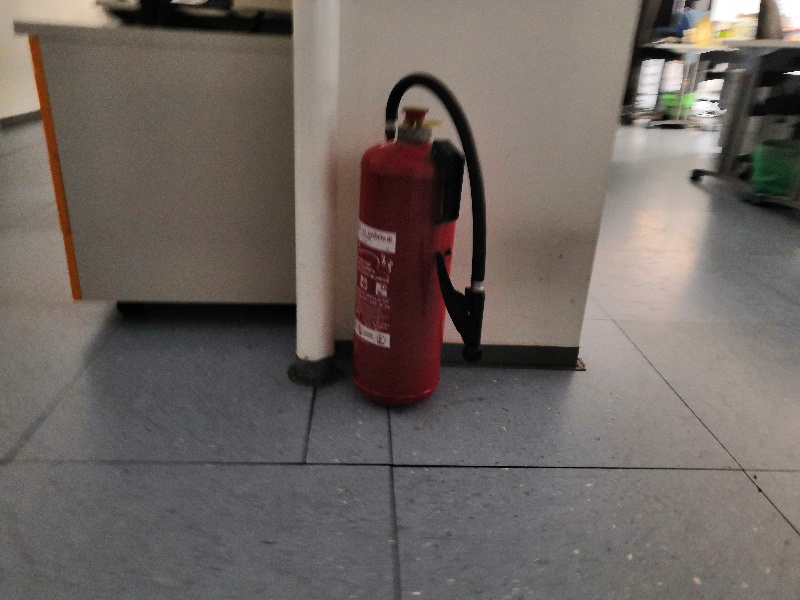vataparat: (352, 72, 483, 407)
